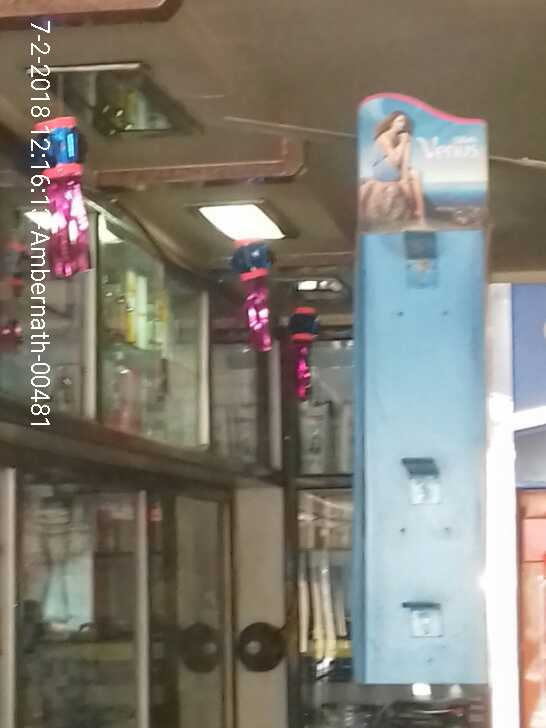reject: (219, 249, 367, 448)
